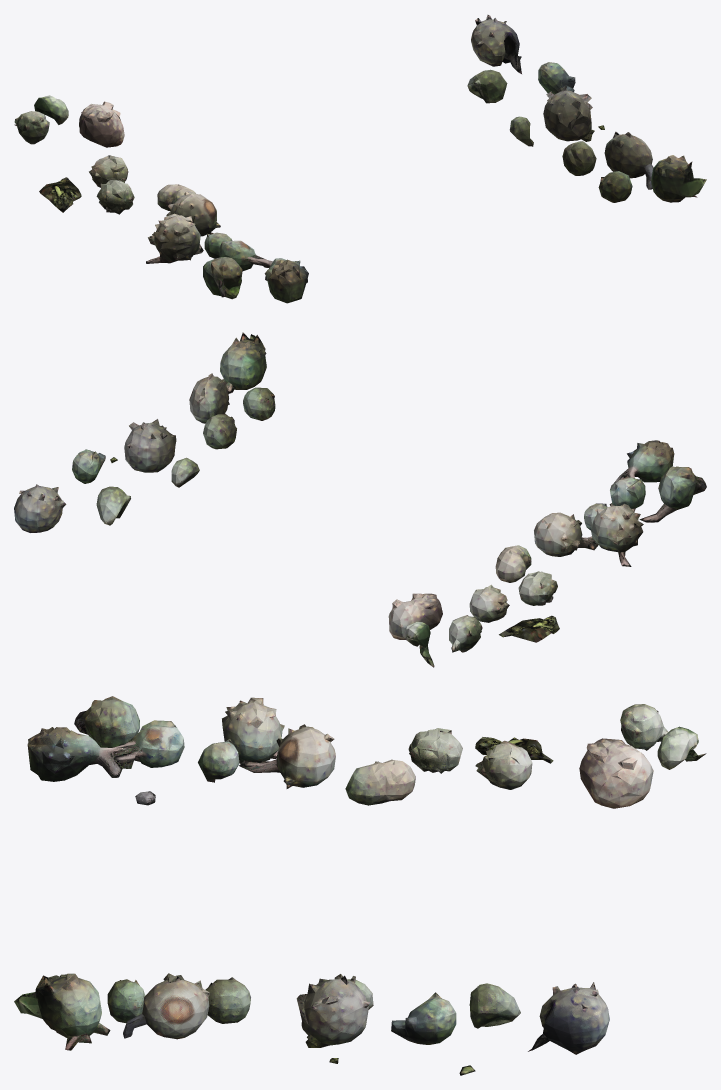
The model's file is Surroundings (3)_compressed.glb.
3 renders of one model, top to bottom at view 1: azimuth 30°, elevation 25°; view 2: azimuth 150°, elevation 25°; view 3: azimuth 270°, elevation 25°, orthographic. The views are drawn at different scales.
Visible parts, largest first — view 1: world; view 2: world; view 3: world.
Part boxes in pixels (left/top/right/bottom): world: left=14, top=14, right=706, bottom=303; world: left=14, top=332, right=706, bottom=667; world: left=14, top=696, right=706, bottom=1075.
Bounding box in the file's own units: 0.9951 × 0.1106 × 0.8975.
1 material, 1 textured.
